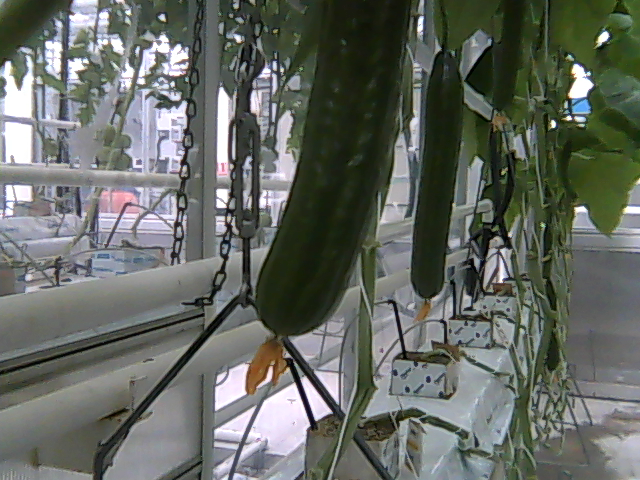concombre: (250, 1, 413, 382), (407, 41, 467, 322)
